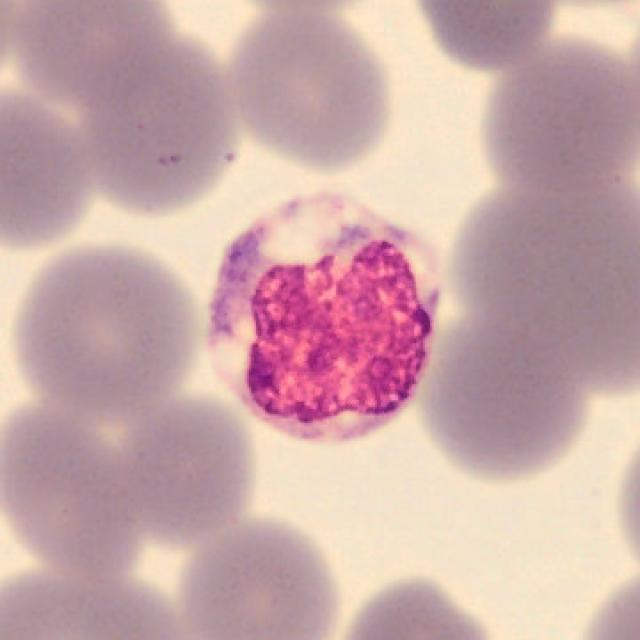Monocito: (206, 192, 443, 446)
